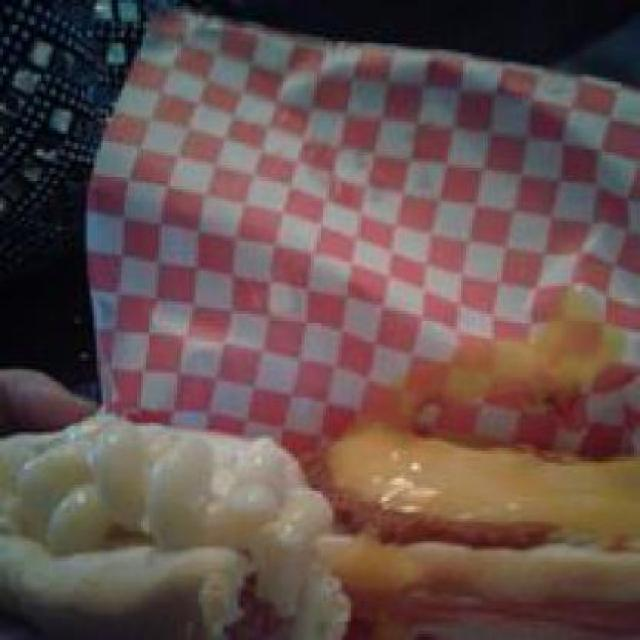hot dog: (314, 410, 637, 618), (204, 572, 298, 638)
